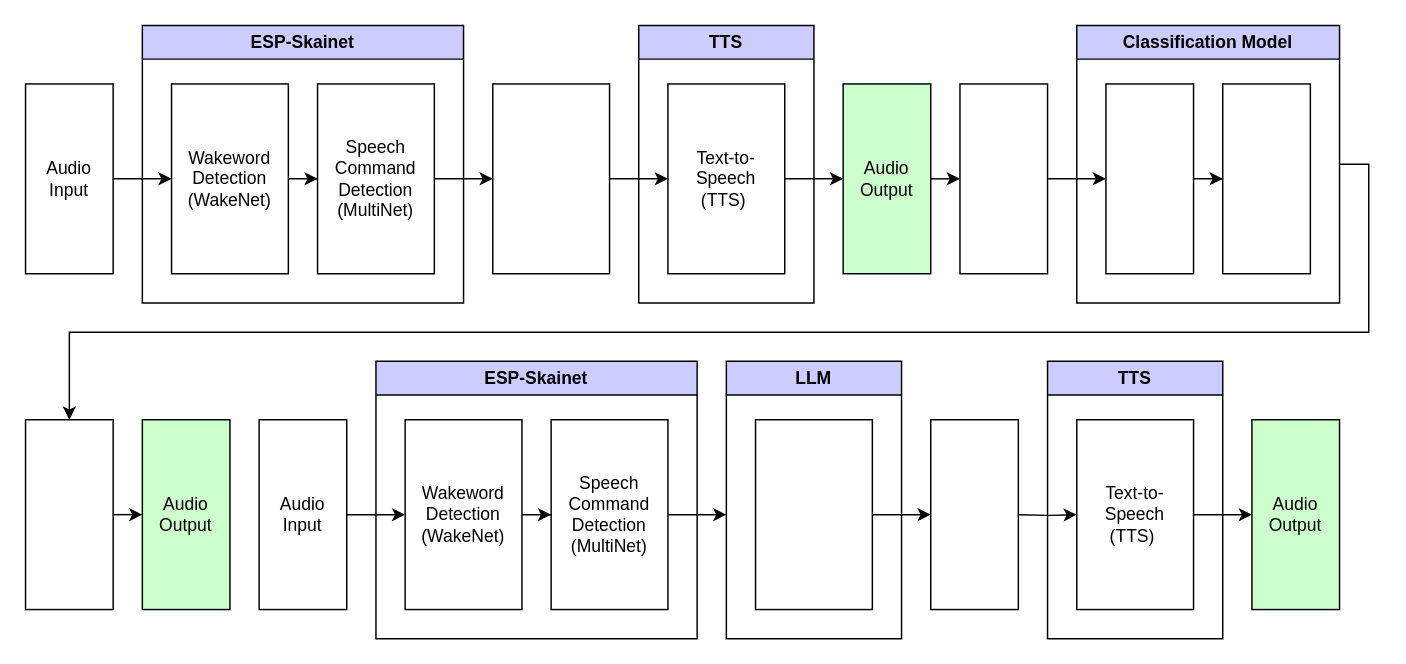
This 1406x664 diagram has some shape labels left out. Here are the shapes that lost their labels. From the top down, the box of each, then its label:
(491, 82, 610, 274): Input Prompt (Flag from ESP-Skainet)
(958, 82, 1048, 274): Raw Sensor Data
(1104, 82, 1194, 274): Model
(1221, 82, 1310, 274): Inference
(24, 418, 113, 610): Results
(754, 418, 872, 610): TinyStories Llama2.c (260K)
(929, 418, 1018, 610): Output Stories
